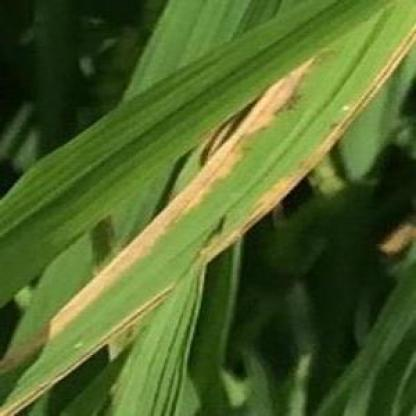Blight: (2, 51, 328, 382)
